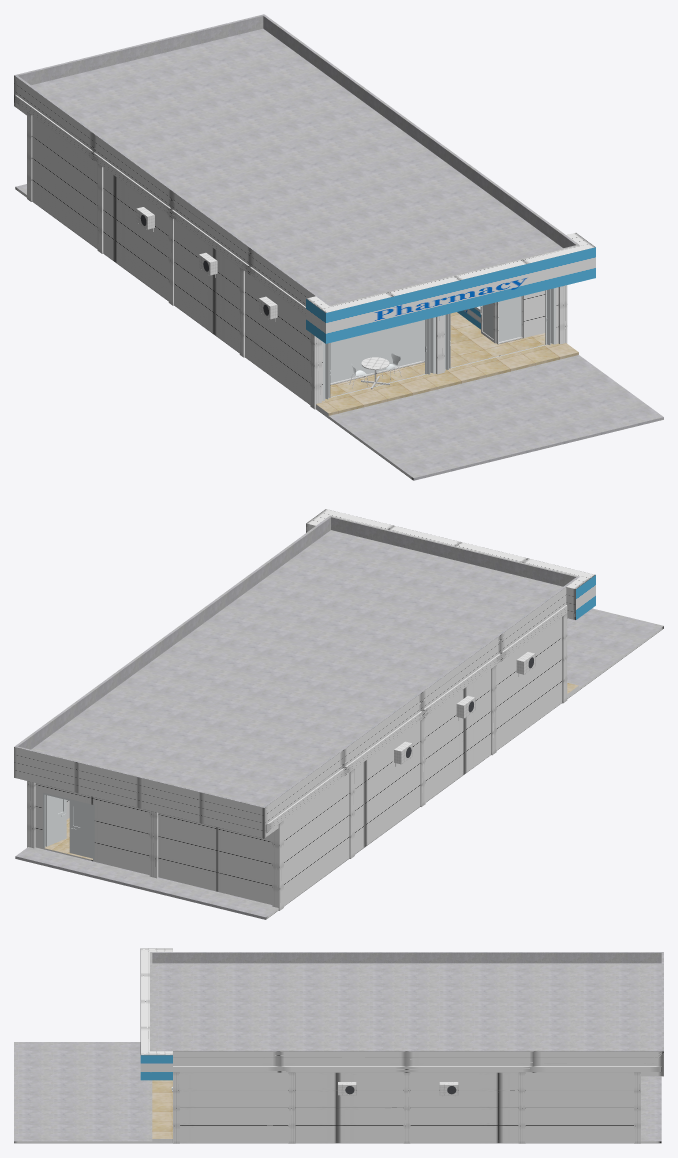
Rendered from pharmacy.glb.
3 renders of one model, top to bottom at view 1: azimuth 30°, elevation 25°; view 2: azimuth 150°, elevation 25°; view 3: azimuth 270°, elevation 25°, orthographic. The views are drawn at different scales.
Visible parts, largest first — view 1: _3DGeom48_148, _3DGeom285_825, _3DGeom289_833, _3DGeom111_315, _3DGeom286_827, _3DGeom47_146, _3DGeom318_918, _3DGeom102_307, _3DGeom110_313, _3DGeom87_246; view 2: _3DGeom48_148, _3DGeom285_825, _3DGeom47_146, _3DGeom289_833, _3DGeom102_307, _3DGeom110_313, _3DGeom292_877, _3DGeom87_285, _3DGeom292_866, _3DGeom87_279, _3DGeom111_315, _3DGeom87_282; view 3: _3DGeom48_148, _3DGeom285_825, _3DGeom289_833, _3DGeom47_146, _3DGeom102_301, _3DGeom110_313, _3DGeom286_827, _3DGeom111_315, _3DGeom87_252, _3DGeom87_264, _3DGeom87_258, _3DGeom87_276 (+1 smaller).
Part boxes in pixels (left/top/right/bottom): _3DGeom48_148: left=14, top=14, right=579, bottom=306; _3DGeom285_825: left=15, top=116, right=558, bottom=480; _3DGeom289_833: left=16, top=184, right=663, bottom=480; _3DGeom111_315: left=306, top=247, right=595, bottom=343; _3DGeom286_827: left=316, top=312, right=578, bottom=415; _3DGeom47_146: left=14, top=75, right=315, bottom=306; _3DGeom318_918: left=330, top=296, right=521, bottom=383; _3DGeom102_307: left=14, top=94, right=305, bottom=315; _3DGeom110_313: left=306, top=233, right=595, bottom=312; _3DGeom87_246: left=310, top=333, right=321, bottom=409; _3DGeom48_148: left=14, top=515, right=579, bottom=807; _3DGeom285_825: left=35, top=617, right=663, bottom=919; _3DGeom47_146: left=14, top=587, right=566, bottom=838; _3DGeom289_833: left=15, top=608, right=663, bottom=919; _3DGeom102_307: left=265, top=605, right=567, bottom=832; _3DGeom110_313: left=306, top=509, right=595, bottom=619; _3DGeom292_877: left=69, top=801, right=92, bottom=858; _3DGeom87_285: left=272, top=821, right=283, bottom=910; _3DGeom292_866: left=45, top=795, right=66, bottom=846; _3DGeom87_279: left=149, top=811, right=158, bottom=878; _3DGeom111_315: left=576, top=575, right=595, bottom=619; _3DGeom87_282: left=27, top=781, right=35, bottom=848; _3DGeom48_148: left=150, top=952, right=663, bottom=1051; _3DGeom285_825: left=14, top=1072, right=661, bottom=1143; _3DGeom289_833: left=14, top=1042, right=661, bottom=1141; _3DGeom47_146: left=173, top=1051, right=663, bottom=1076; _3DGeom102_301: left=173, top=1066, right=661, bottom=1072; _3DGeom110_313: left=140, top=948, right=172, bottom=1055; _3DGeom286_827: left=152, top=1080, right=172, bottom=1138; _3DGeom111_315: left=140, top=1055, right=172, bottom=1080; _3DGeom87_252: left=288, top=1072, right=295, bottom=1143; _3DGeom87_264: left=518, top=1072, right=525, bottom=1143; _3DGeom87_258: left=403, top=1072, right=410, bottom=1143; _3DGeom87_276: left=173, top=1072, right=179, bottom=1143.
Size of the model in its own units: 11 by 4.4 by 28.2.
Materials: 21 (20 with a texture image).
